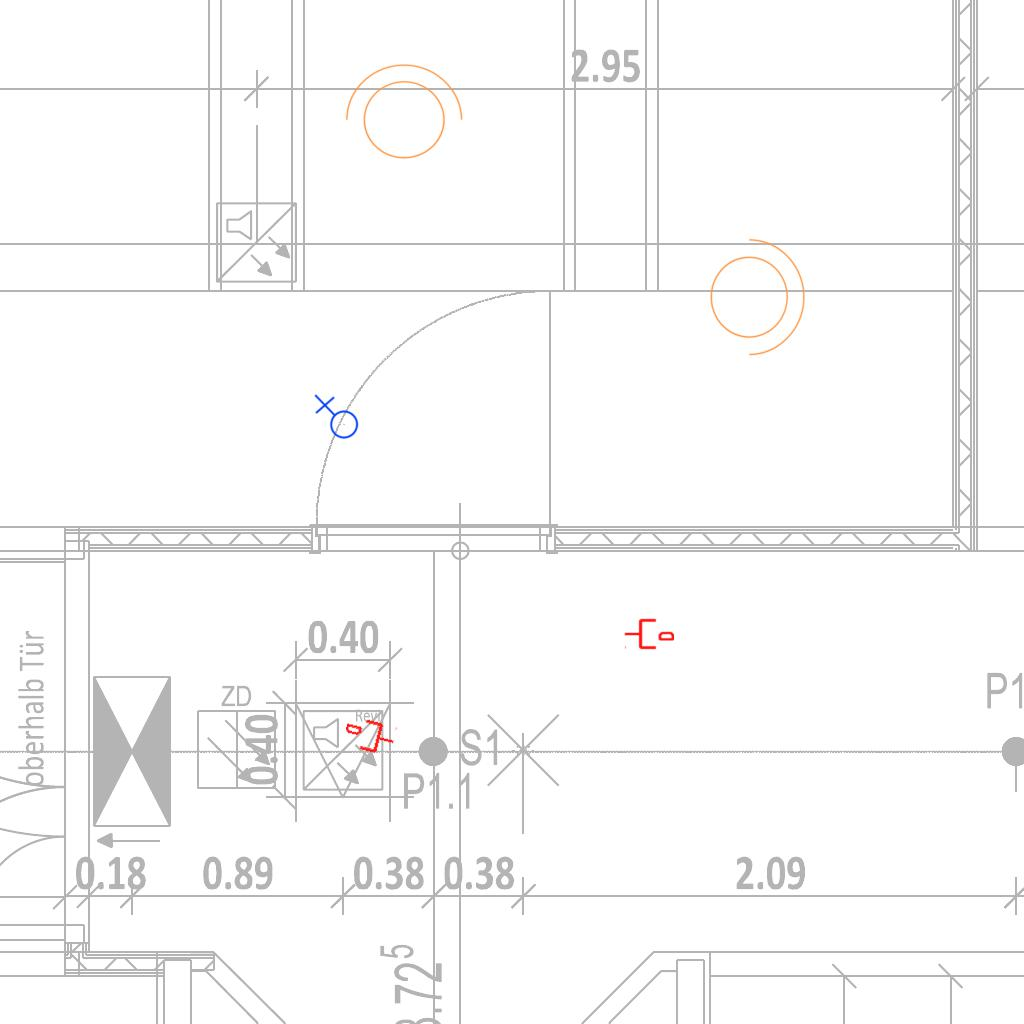Datenanschluss_einfach: (341, 713, 399, 759), (624, 617, 674, 651)
Elektroanschluss_allgemein_230V_Geraeteanschlussdose_230V: (312, 394, 359, 443)
Scheinwerfer_fuer_Alarmbeleuchtung: (698, 228, 810, 360), (335, 59, 467, 171)
